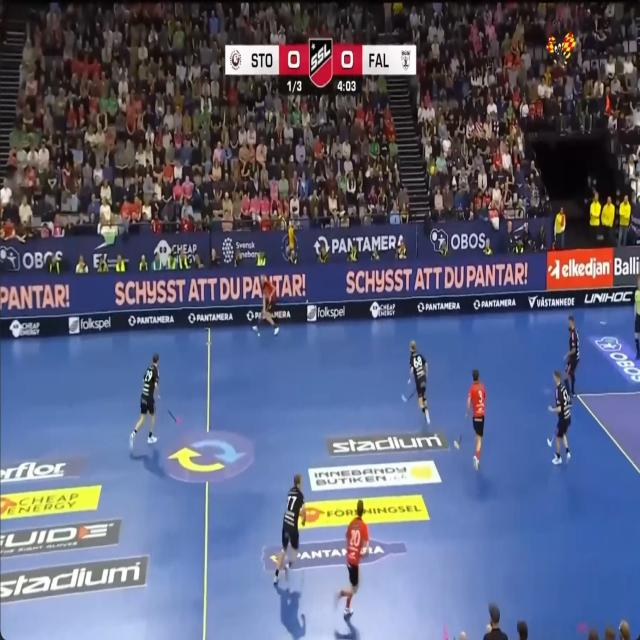Balls: (258, 334, 260, 337)
player: (336, 499, 369, 615), (273, 474, 306, 583), (130, 355, 158, 447), (465, 369, 486, 470), (548, 371, 570, 463), (410, 341, 430, 423), (253, 276, 278, 334), (565, 315, 579, 395), (634, 276, 640, 360), (548, 439, 553, 445)
stick: (547, 428, 557, 447), (168, 410, 180, 424), (402, 390, 415, 402), (547, 432, 557, 447), (168, 410, 177, 423), (454, 434, 461, 449), (454, 435, 461, 449)
